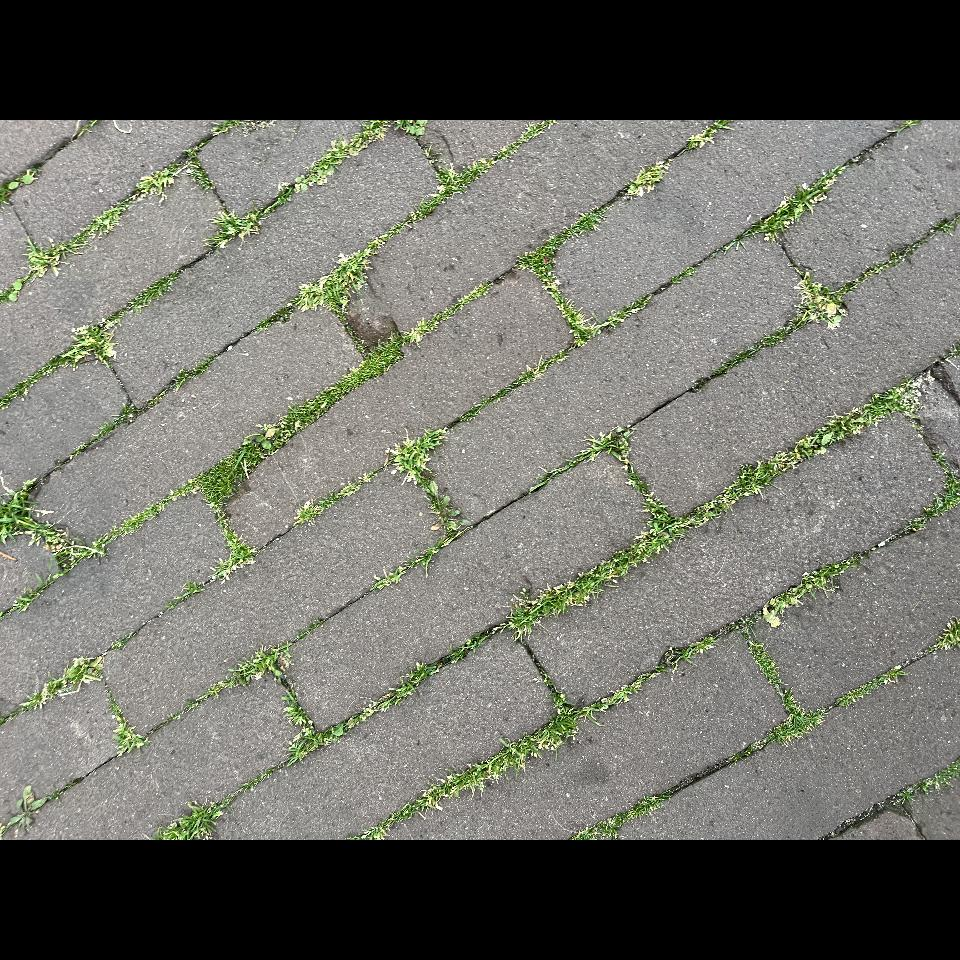weed: (201, 625, 424, 960), (0, 479, 157, 759), (262, 120, 405, 374), (525, 408, 679, 612), (538, 120, 686, 315), (594, 327, 720, 546), (431, 120, 569, 302), (76, 403, 176, 561), (78, 848, 215, 960), (327, 306, 439, 430), (495, 637, 632, 725), (0, 270, 72, 393), (131, 306, 194, 409), (0, 690, 49, 795), (212, 883, 277, 960), (131, 142, 182, 222), (296, 120, 352, 185), (427, 431, 479, 490), (85, 227, 149, 268), (3, 120, 54, 170), (153, 346, 190, 406), (0, 694, 30, 761), (229, 123, 260, 173)
